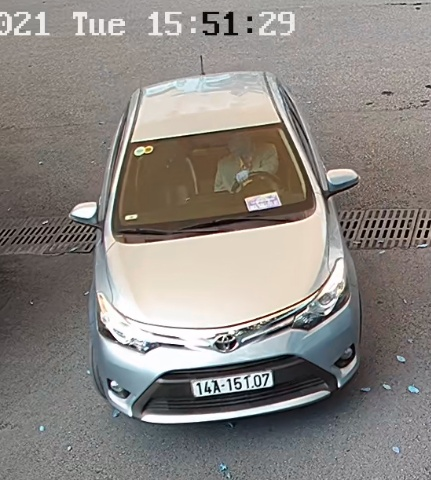vehicle plate: (184, 365, 281, 397)
